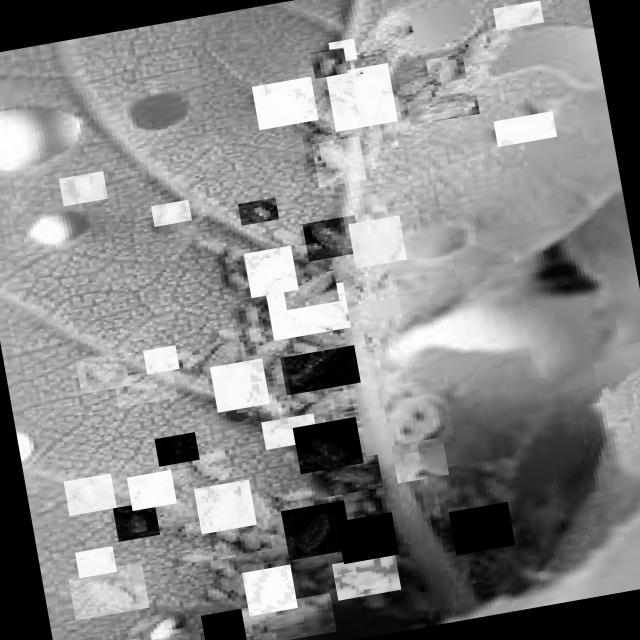aphid: (324, 62, 396, 132), (265, 282, 350, 341), (66, 562, 148, 620), (240, 592, 335, 640), (280, 500, 352, 560), (292, 416, 362, 474), (279, 345, 359, 395), (250, 76, 318, 130), (446, 502, 514, 556), (199, 601, 289, 640), (192, 479, 255, 534), (330, 552, 400, 600), (334, 512, 398, 564), (208, 358, 268, 412), (309, 454, 382, 498), (346, 215, 406, 268), (242, 245, 298, 298), (240, 564, 296, 616), (310, 136, 365, 188), (301, 214, 360, 262), (390, 437, 448, 483), (111, 368, 176, 408), (406, 89, 478, 125), (62, 473, 116, 516), (280, 270, 338, 310), (492, 110, 556, 146), (74, 352, 128, 394), (260, 412, 317, 450), (126, 470, 176, 510), (112, 501, 158, 542), (57, 170, 106, 206), (153, 432, 198, 466), (492, 0, 542, 30), (176, 544, 222, 575), (74, 546, 115, 578), (424, 52, 465, 84), (309, 46, 346, 78), (236, 198, 278, 225), (150, 200, 190, 227), (142, 345, 178, 374), (326, 38, 356, 64)
